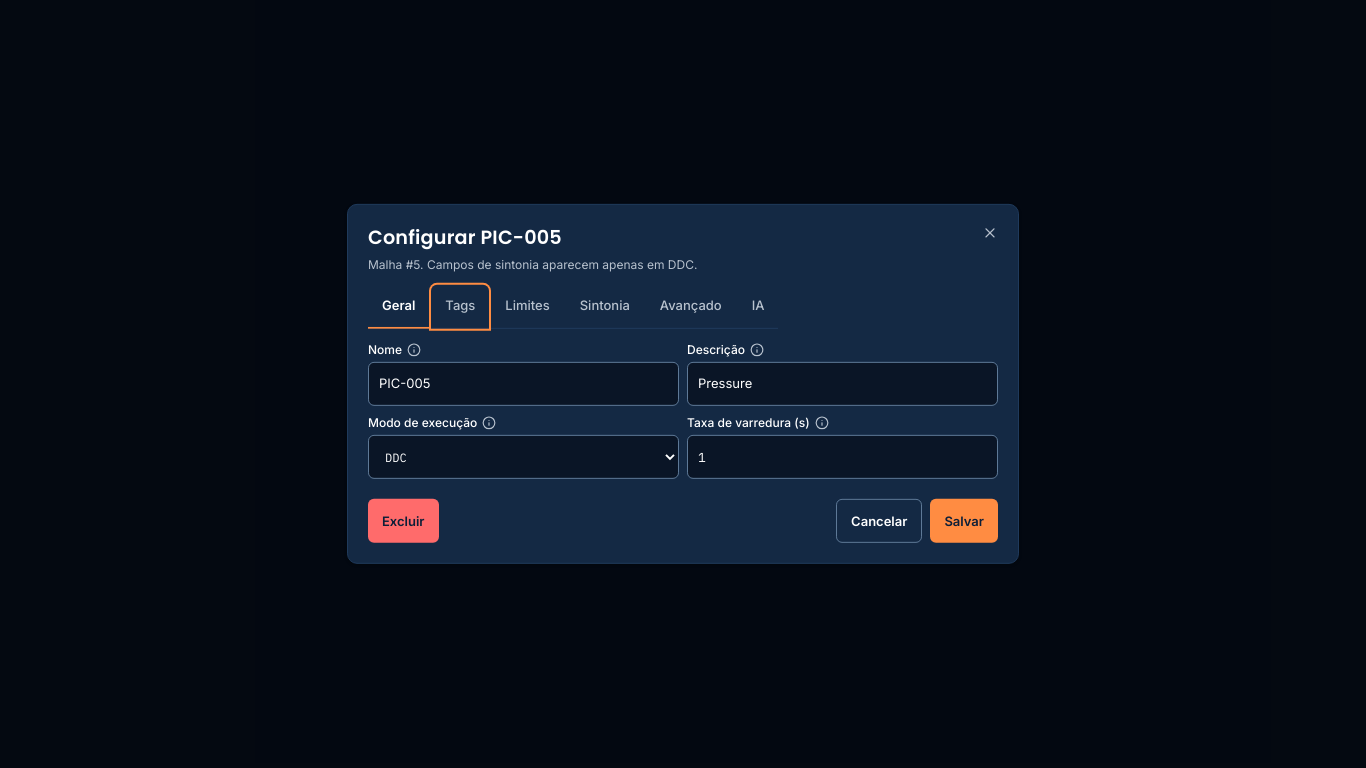
Test: LoopConfigDialog — OPC-UA tag picker › binds the chosen node to NodeID PV and leaves the rest alone
Press Enter in the tab "Tags", box [431,285,489,329]
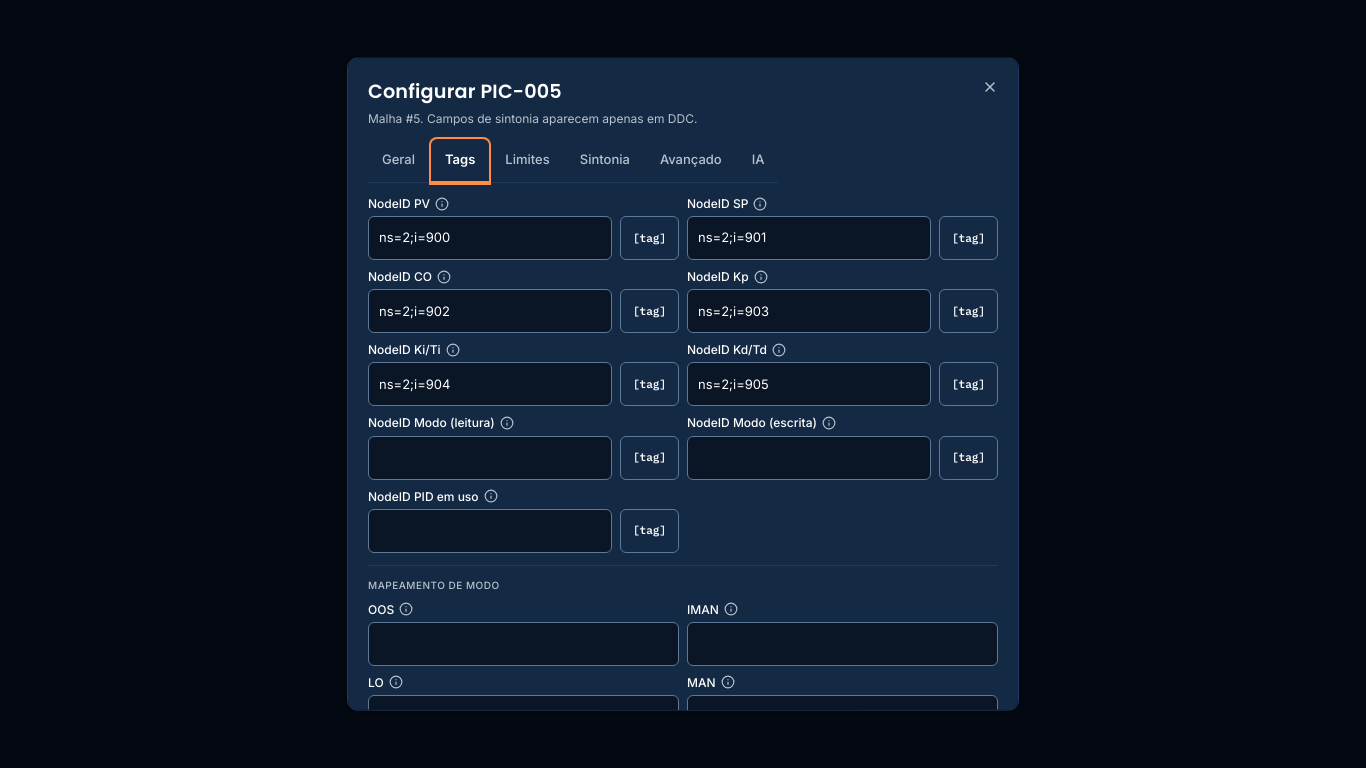
Click the button "[tag]" below "NodeID PV". click: (650, 238)
box: [620,216,679,260]
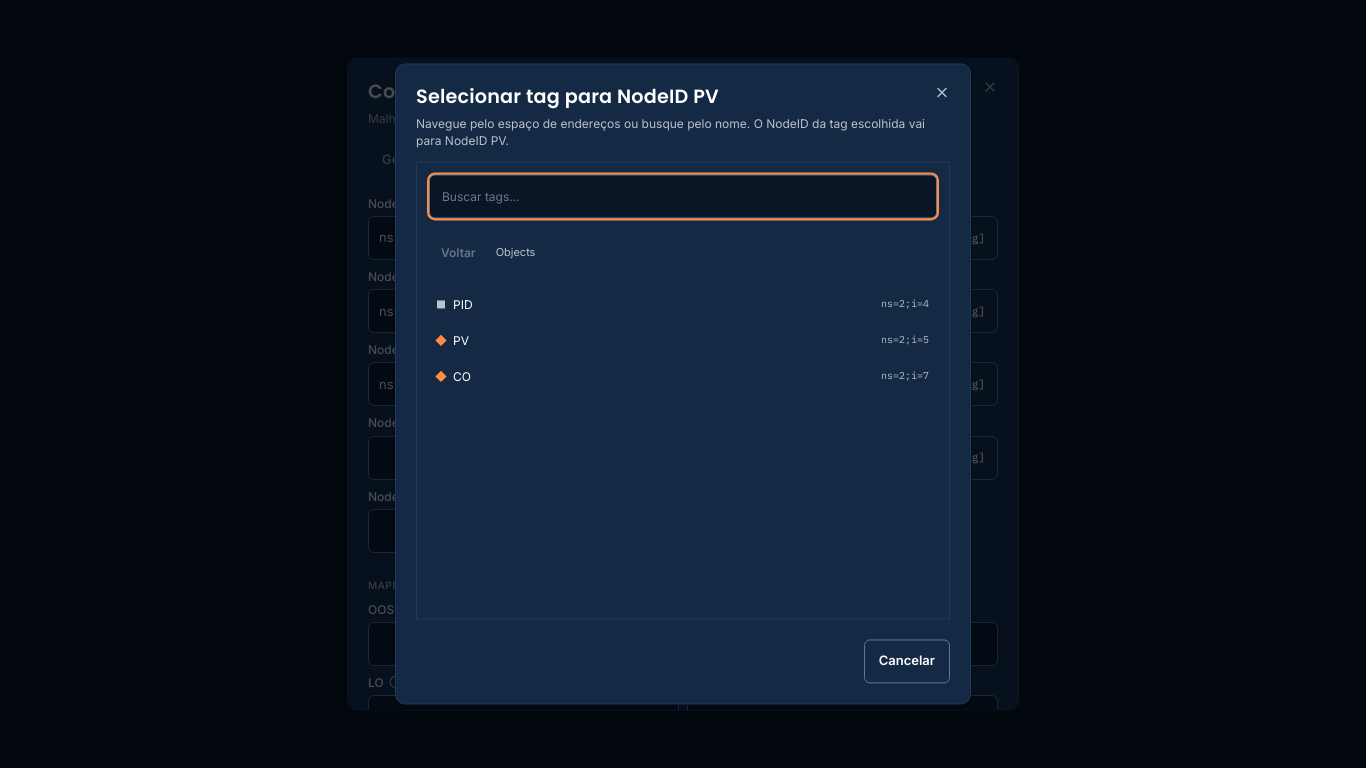
Click the button "CO ns=2;i=7". click: (905, 376)
box: [429,359,937,395]
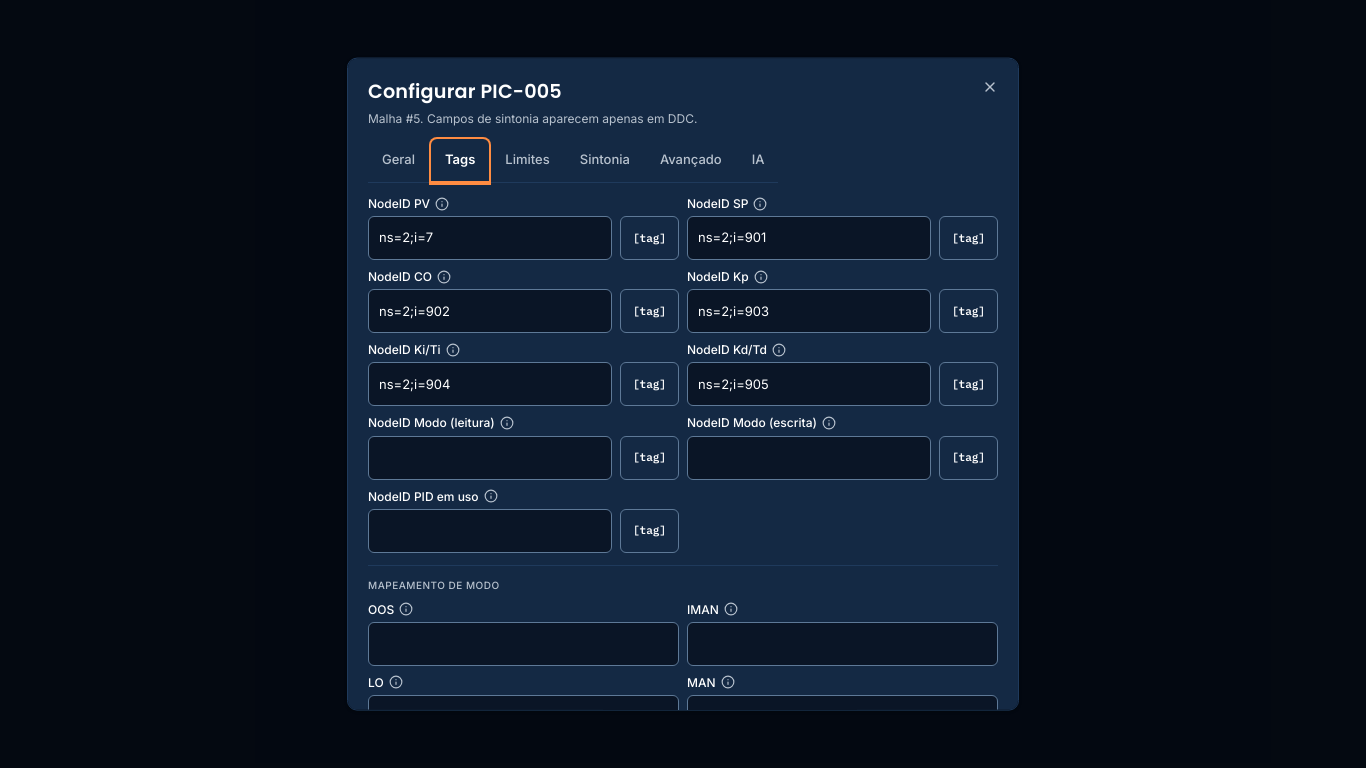
Now the field labelled "NodeID PV" holds "ns=2;i=7", box [368,216,612,260]
